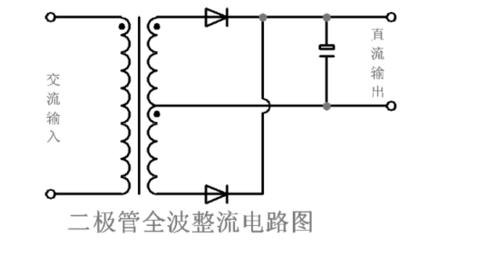cap1: (316, 40, 338, 62)
diode: (201, 182, 232, 206), (202, 6, 231, 28)
trans: (113, 10, 167, 202)
